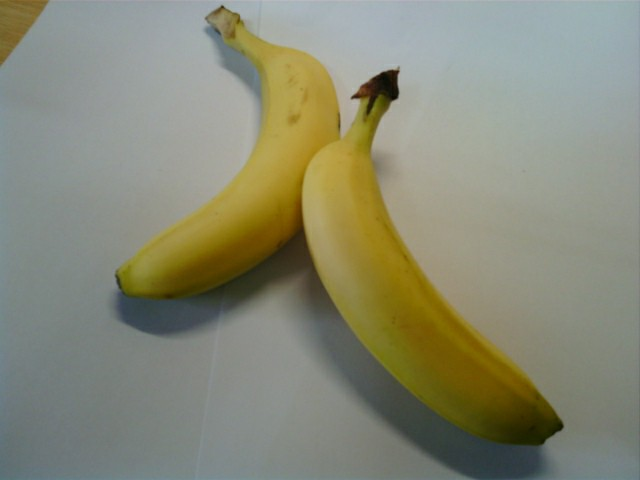fresh_banana: (304, 135, 564, 444), (110, 41, 339, 300)
